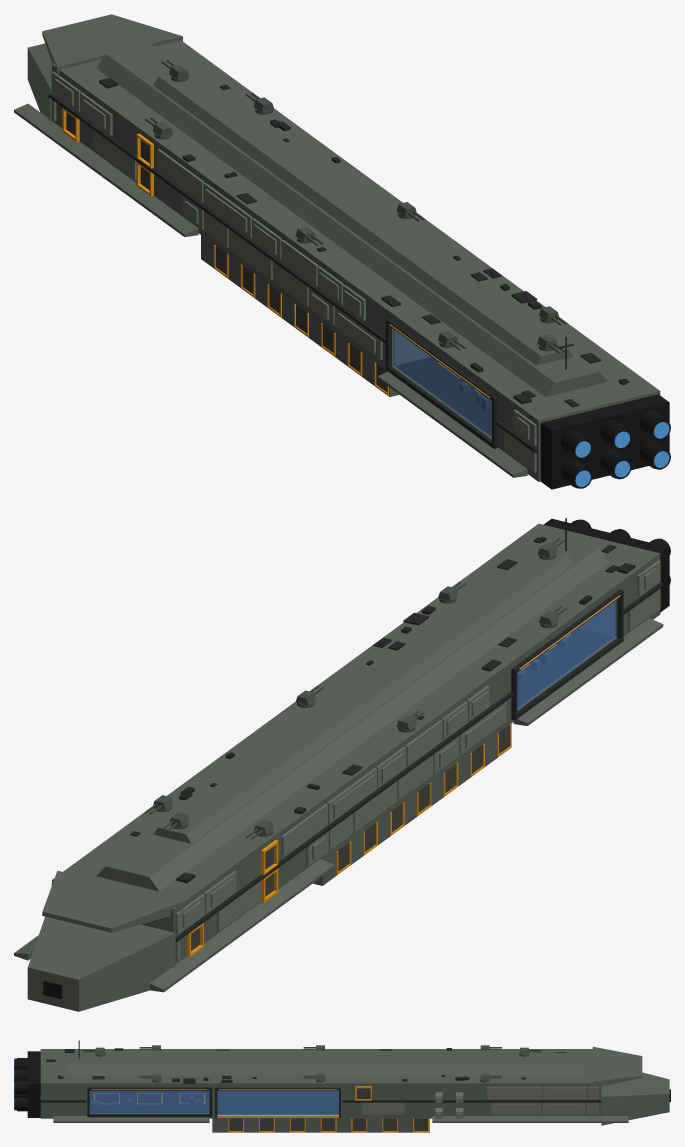
Rendered from ship_LARGE.obj.
3 renders of one model, top to bottom at view 1: azimuth 30°, elevation 25°; view 2: azimuth 150°, elevation 25°; view 3: azimuth 270°, elevation 25°, orthographic. The views are drawn at different scales.
Visible parts, largest first — view 1: LARGE_Hull-col, LARGE_Armor, LARGE_Engines, LARGE_Trim, LARGE_HangarShield_Port, LARGE_Decks-col, LARGE_Details, LARGE_Hazard, LARGE_EngineGlow; view 2: LARGE_Hull-col, LARGE_Armor, LARGE_Trim, LARGE_HangarShield_Port, LARGE_Decks-col, LARGE_Details, LARGE_Engines, LARGE_Hazard; view 3: LARGE_Hull-col, LARGE_Armor, LARGE_CargoBayShield, LARGE_CargoBayDoor-col, LARGE_HangarShield_Starboard, LARGE_Trim, LARGE_Decks-col, LARGE_Engines, LARGE_Hazard, LARGE_Details, LARGE_Cover-col, LARGE_Lights (+8 smaller).
Boxes of the visible parts, left/top/right/bottom form: LARGE_Hull-col: left=14, top=14, right=660, bottom=481; LARGE_Armor: left=51, top=71, right=536, bottom=472; LARGE_Engines: left=540, top=394, right=670, bottom=489; LARGE_Trim: left=48, top=93, right=538, bottom=453; LARGE_HangarShield_Port: left=393, top=329, right=491, bottom=437; LARGE_Decks-col: left=396, top=357, right=491, bottom=435; LARGE_Details: left=99, top=77, right=629, bottom=407; LARGE_Hazard: left=62, top=107, right=480, bottom=395; LARGE_EngineGlow: left=575, top=422, right=669, bottom=486; LARGE_Hull-col: left=14, top=523, right=663, bottom=1011; LARGE_Armor: left=51, top=560, right=660, bottom=961; LARGE_Trim: left=175, top=582, right=663, bottom=942; LARGE_HangarShield_Port: left=517, top=600, right=616, bottom=708; LARGE_Decks-col: left=517, top=628, right=613, bottom=707; LARGE_Details: left=130, top=518, right=635, bottom=883; LARGE_Engines: left=43, top=518, right=670, bottom=998; LARGE_Hazard: left=186, top=633, right=571, bottom=957; LARGE_Hull-col: left=40, top=1046, right=669, bottom=1132; LARGE_Armor: left=362, top=1086, right=598, bottom=1114; LARGE_CargoBayShield: left=217, top=1090, right=338, bottom=1114; LARGE_CargoBayDoor-col: left=217, top=1090, right=338, bottom=1114; LARGE_HangarShield_Starboard: left=89, top=1090, right=209, bottom=1113; LARGE_Trim: left=40, top=1087, right=601, bottom=1117; LARGE_Decks-col: left=89, top=1090, right=209, bottom=1112; LARGE_Engines: left=14, top=1051, right=670, bottom=1117; LARGE_Hazard: left=94, top=1086, right=428, bottom=1132; LARGE_Details: left=46, top=1040, right=566, bottom=1083; LARGE_Cover-col: left=91, top=1090, right=201, bottom=1109; LARGE_Lights: left=92, top=1089, right=336, bottom=1089.
Size of the model in its own units: 23.8 by 19.3 by 154.
